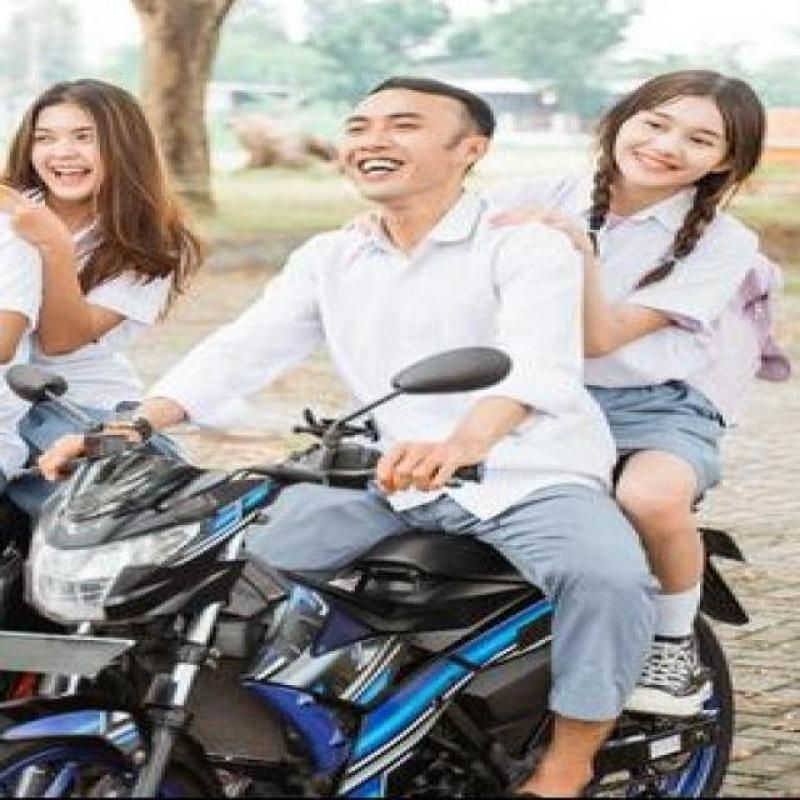nohelmet: (326, 57, 502, 218), (565, 80, 780, 194), (7, 85, 144, 214)
